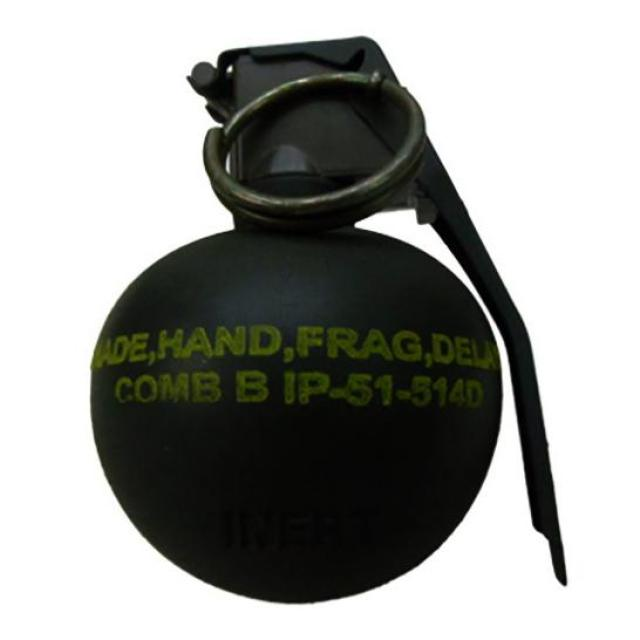grenade: (91, 36, 571, 606)
